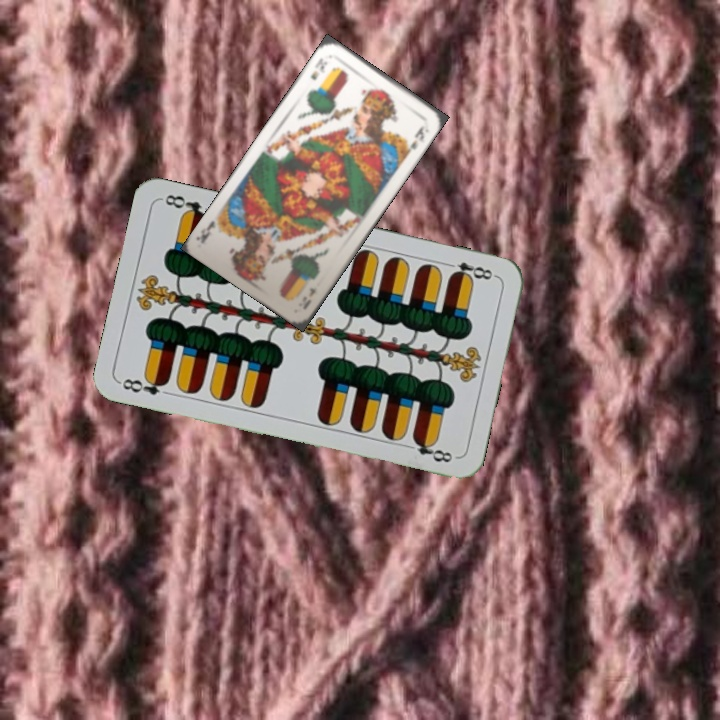E8: (441, 258, 499, 284), (116, 372, 171, 398)
EK: (306, 53, 330, 83), (297, 283, 317, 312)
